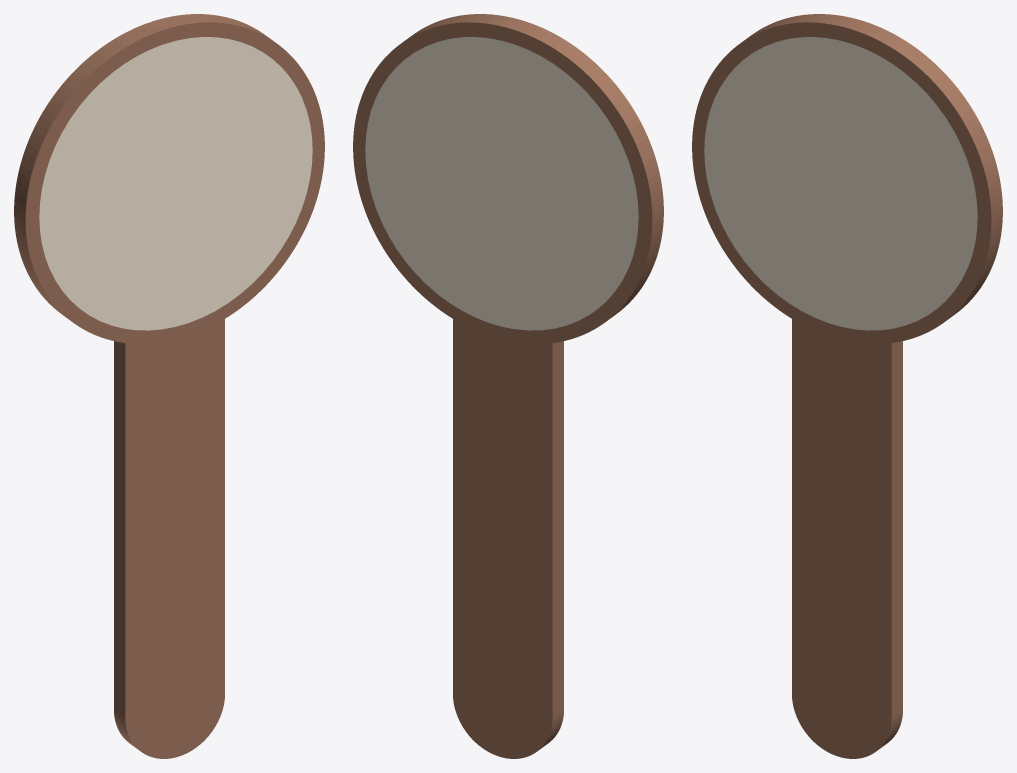
File: auction-paddle.glb
3 views of the same model, side by side, from view 1: azimuth 30°, elevation 25°; view 2: azimuth 150°, elevation 25°; view 3: azimuth 330°, elevation 25° (orthographic).
Parts seen in each view (by area): view 1: Original jumimo paddle, Number face 1; view 2: Original jumimo paddle, Number face -1; view 3: Original jumimo paddle, Number face 1.
Boxes of the visible parts, left/top/right/bottom form: Original jumimo paddle: left=14, top=14, right=324, bottom=758; Number face 1: left=39, top=37, right=312, bottom=330; Original jumimo paddle: left=353, top=14, right=663, bottom=758; Number face -1: left=365, top=37, right=638, bottom=330; Original jumimo paddle: left=692, top=14, right=1002, bottom=758; Number face 1: left=704, top=37, right=977, bottom=330.
Size of the model in its own units: 0.6899 by 1.61 by 0.052.
